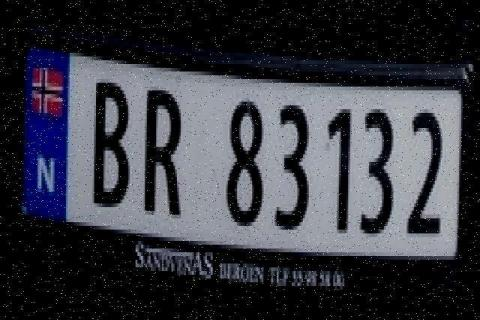LicensePlate: (11, 12, 465, 282)
